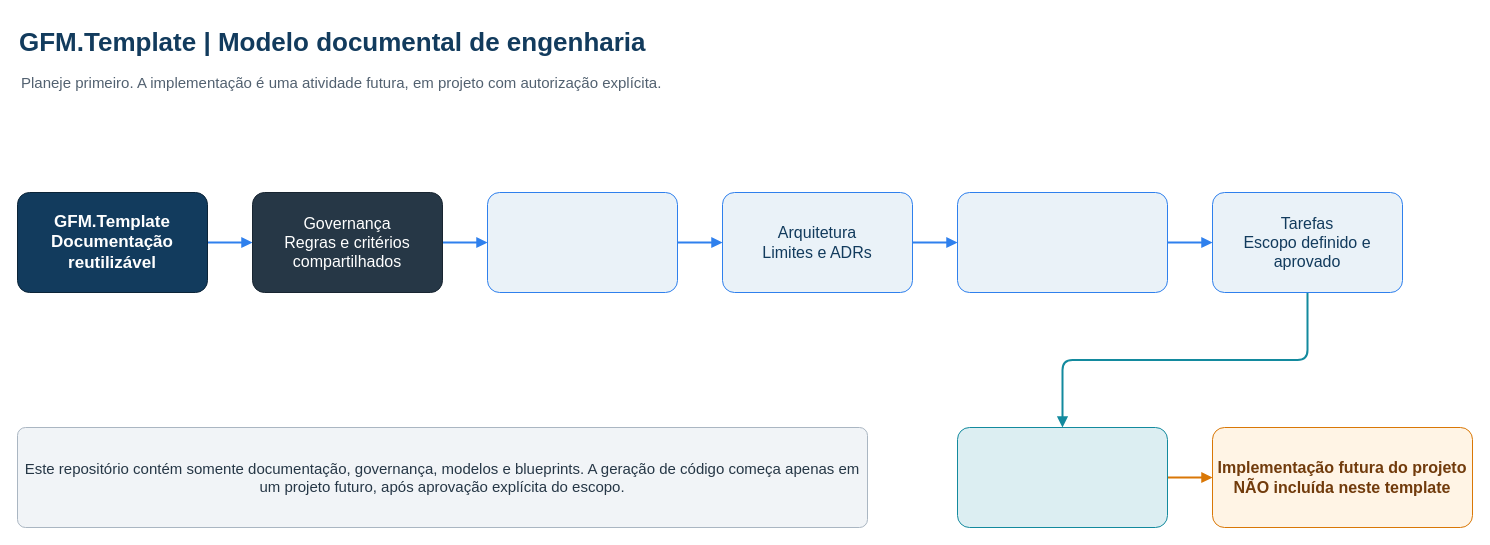
The diagram is 1490 pixels wide and 545 high, and some of its shapes have lost their labels. The shapes that lost their labels are listed below. From the top down, each one's box as (x1, y1, x2, y2) in pixels, then its label:
(486, 192, 678, 292): Especificações Requisitos aprovados
(956, 192, 1168, 292): Planos de implementação Fases e dependências
(956, 426, 1168, 528): FASE 00 | Bootstrap Opcional e conforme o cenário
